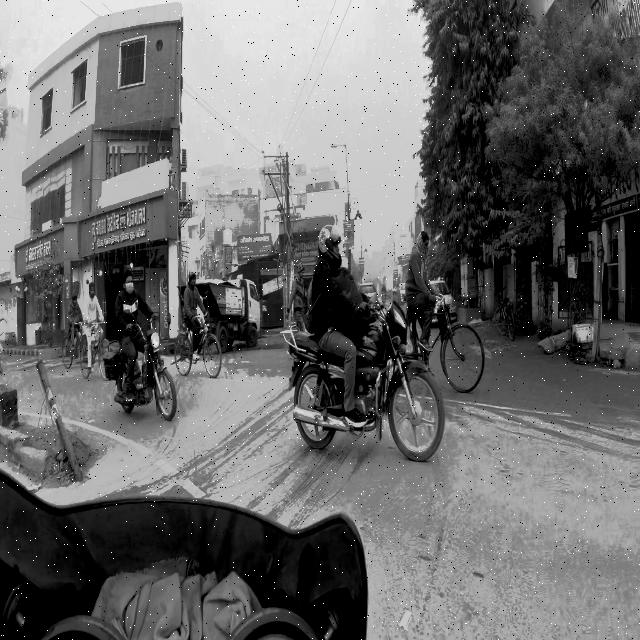Bike: (280, 223, 447, 468), (94, 261, 184, 428)
LCV: (194, 264, 266, 360)
